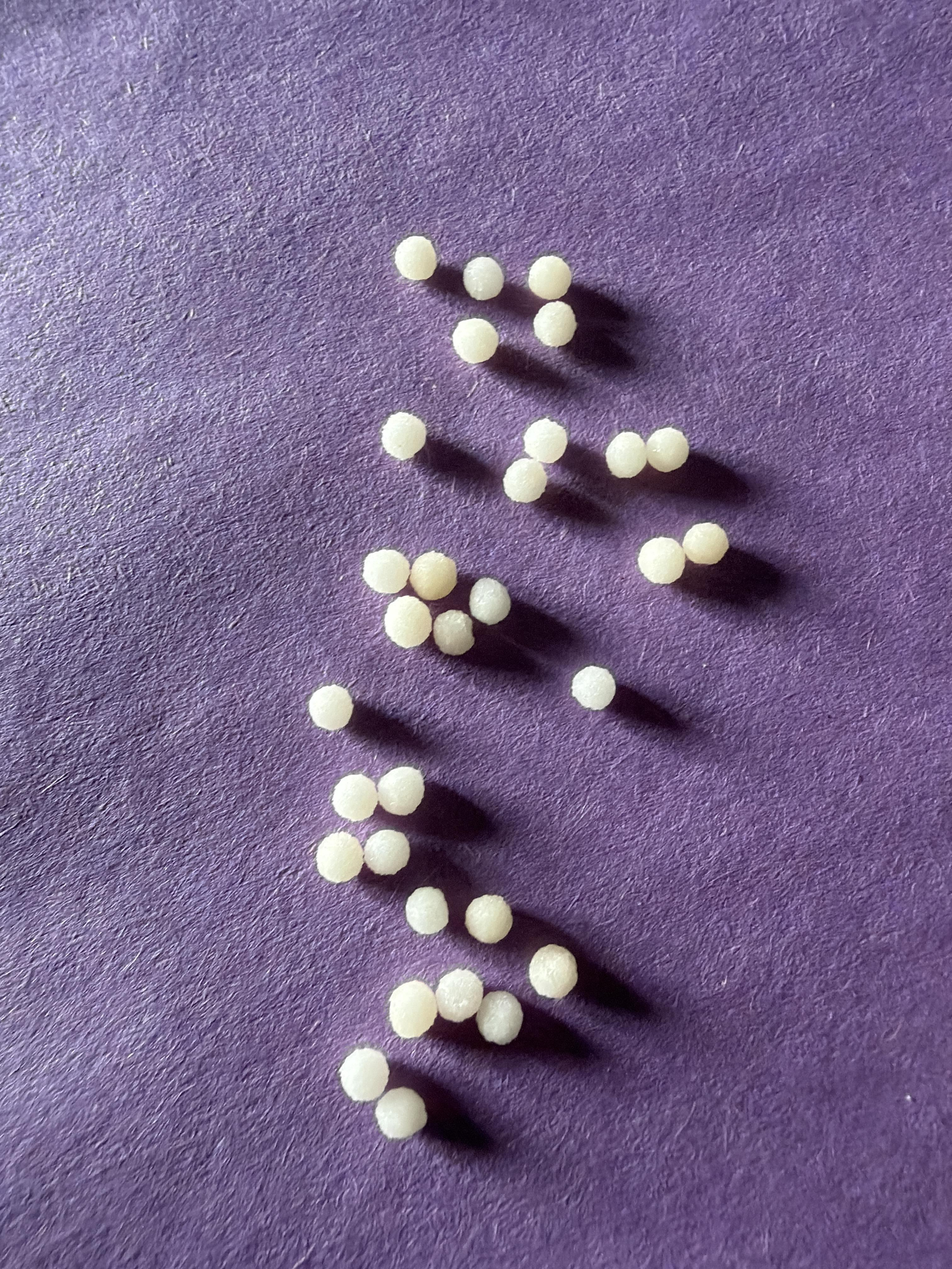pill: (374, 1087, 427, 1140), (389, 980, 437, 1038), (339, 1048, 389, 1102), (528, 944, 577, 999), (383, 595, 432, 648), (435, 969, 483, 1022), (476, 991, 523, 1045), (315, 832, 363, 883), (409, 551, 457, 601), (465, 895, 513, 944), (377, 766, 424, 815), (637, 537, 685, 584), (331, 773, 377, 821), (381, 411, 426, 460), (364, 829, 410, 876), (362, 549, 410, 594), (452, 318, 498, 364), (308, 685, 353, 731), (405, 887, 448, 935), (533, 300, 576, 347), (571, 666, 616, 710), (503, 458, 547, 503), (524, 417, 567, 463), (605, 431, 647, 478), (469, 578, 511, 625), (527, 256, 571, 300), (394, 235, 437, 280), (646, 427, 689, 472), (433, 610, 474, 656), (463, 256, 504, 300)
